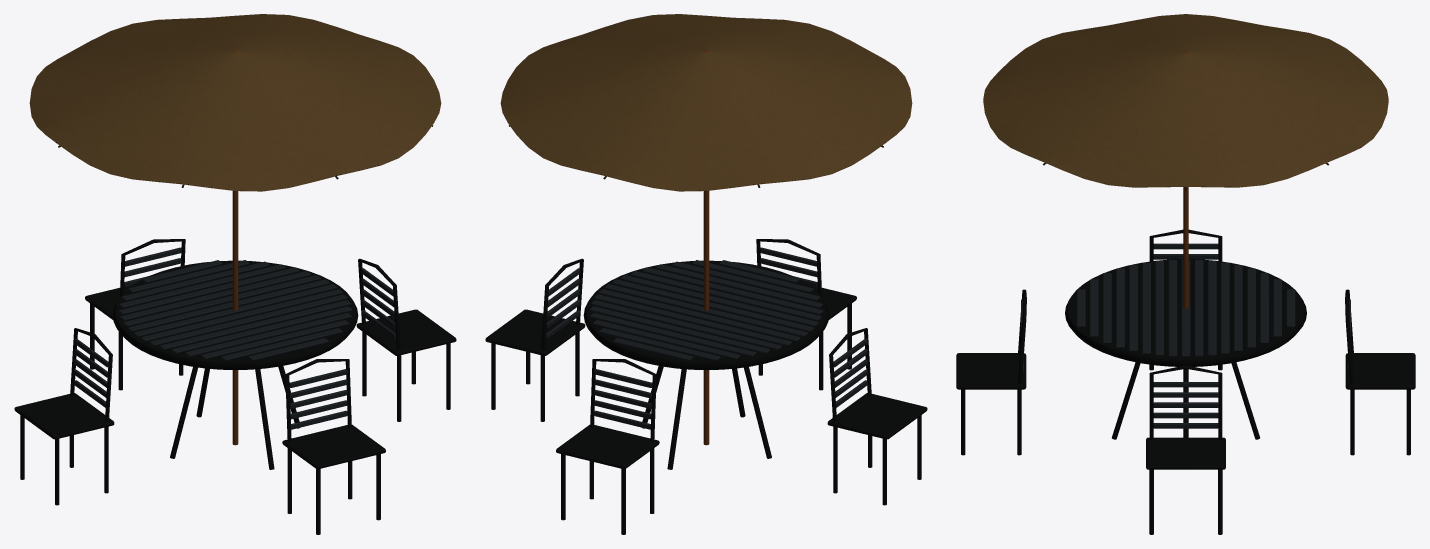
Rendered from PatioSet.gltf.
3 views of the same model, side by side, from view 1: azimuth 30°, elevation 25°; view 2: azimuth 150°, elevation 25°; view 3: azimuth 270°, elevation 25° (orthographic).
Visible parts, largest first — view 1: PatioSet__Umbrella, PatioSet__Body; view 2: PatioSet__Umbrella, PatioSet__Body; view 3: PatioSet__Umbrella, PatioSet__Body.
Part boxes in pixels (<box>): PatioSet__Umbrella: <box>29,14,441,191</box>; PatioSet__Body: <box>14,50,456,534</box>; PatioSet__Umbrella: <box>500,14,912,191</box>; PatioSet__Body: <box>485,50,927,534</box>; PatioSet__Umbrella: <box>983,14,1388,190</box>; PatioSet__Body: <box>956,52,1415,534</box>.
Size of the model in its own units: 2.41 by 2.24 by 2.41.
Materials: 1 (1 with a texture image).
